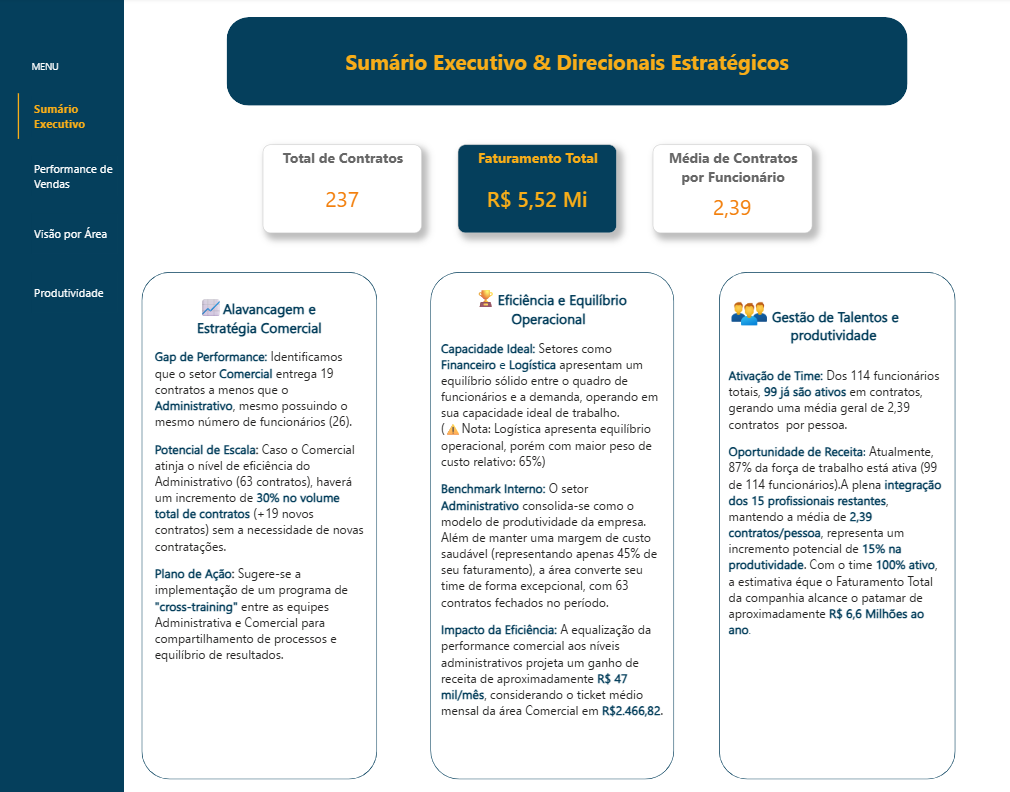

The dashboard page shown, as its layout file describes it:
{"tool":"powerbi","page":{"name":"Sumário Executivo ","canvas":[1600,1200],"ordinal":0},"visuals":[{"type":"cardVisual","title":"Total de Contratos ","fields":{"Data":["Tab_Medidas.Total Contratos Fechados"]},"box":[455.4,254.3,244,136],"z":0},{"type":"cardVisual","title":"Média de Contratos por Funcionário  ","fields":{"Data":["Tab_Medidas.Taxa de Produtividade (Contratos por Funcionario)"]},"box":[1054.6,255.6,244.6,135.7],"z":1000},{"type":"cardVisual","title":"Faturamento Total ","fields":{"Data":["Tab_Medidas.Soma Valor Total Contratos"]},"box":[755,254.3,244,136],"z":2000},{"type":"shape","box":[0,0,191.4,1200],"z":3000},{"type":"shape","box":[218.8,483.8,361.2,640],"z":4000},{"type":"textbox","box":[235,498.8,330,615],"z":5000},{"type":"shape","box":[661.5,483.8,362,640],"z":6000},{"type":"textbox","box":[670,507.5,345,587.5],"z":7000},{"type":"shape","box":[1105,483.8,361.2,640],"z":8000},{"type":"textbox","box":[1112.5,506.2,342.5,576.2],"z":9000},{"type":"image","box":[1122.5,535,55,65],"z":10000},{"type":"shape","box":[348.8,31.2,1045,136.2],"z":11000},{"type":"shape","box":[50,84,100,43.8],"z":12000},{"type":"actionButton","box":[50,151.3,132,63],"z":13000},{"type":"shape","box":[18.8,147.8,21.2,70],"z":14000},{"type":"actionButton","box":[50,243.5,132.5,62.5],"z":15000},{"type":"actionButton","box":[50,332.4,132.5,62.5],"z":16000},{"type":"actionButton","box":[50,421.2,132.5,62.5],"z":17000}]}

Visuals, with their boxes on the page's 1600x1200 design canvas (x1, y1, x2, y2). These are canvas units, not pixel positions in the 1010x792 screenshot, which may show the page scaled, cropped or inside an application window:
"Total de Contratos " cardVisual: [455, 254, 699, 390]
"Média de Contratos por Funcionário  " cardVisual: [1055, 256, 1299, 391]
"Faturamento Total " cardVisual: [755, 254, 999, 390]
shape: [0, 0, 191, 1200]
shape: [219, 484, 580, 1124]
textbox: [235, 499, 565, 1114]
shape: [662, 484, 1024, 1124]
textbox: [670, 508, 1015, 1095]
shape: [1105, 484, 1466, 1124]
textbox: [1112, 506, 1455, 1082]
image: [1122, 535, 1178, 600]
shape: [349, 31, 1394, 167]
shape: [50, 84, 150, 128]
actionButton: [50, 151, 182, 214]
shape: [19, 148, 40, 218]
actionButton: [50, 244, 182, 306]
actionButton: [50, 332, 182, 395]
actionButton: [50, 421, 182, 484]
